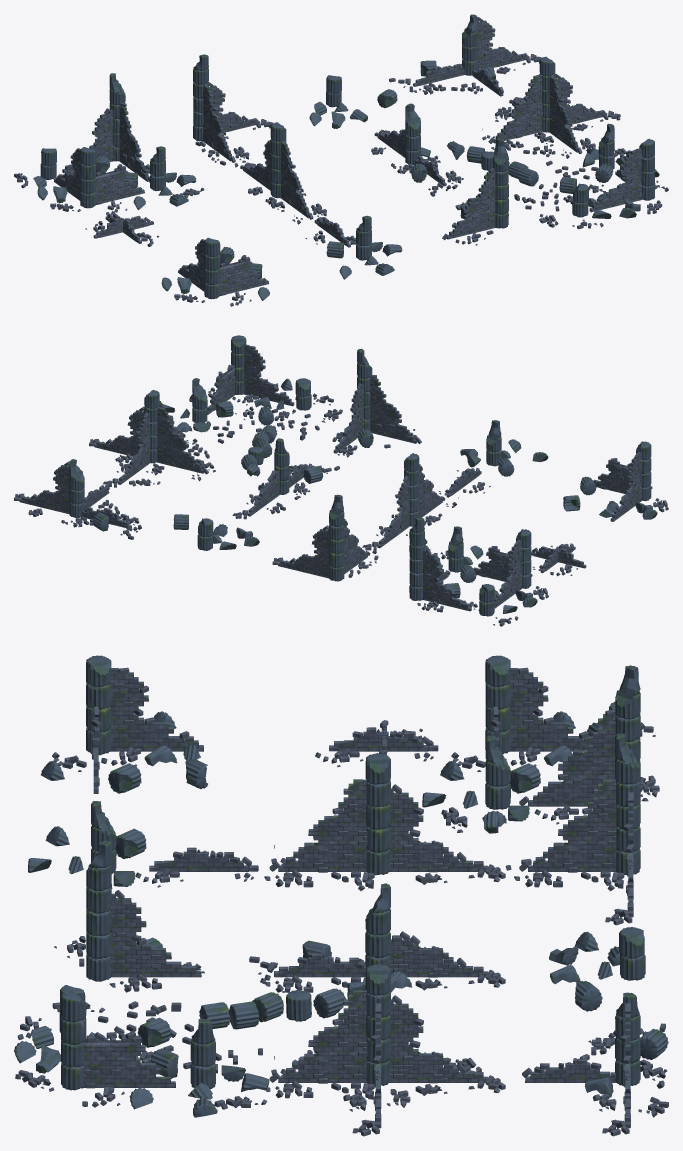
Rendered from AncientRuin2.glb.
3 renders of one model, top to bottom at view 1: azimuth 30°, elevation 25°; view 2: azimuth 150°, elevation 25°; view 3: azimuth 270°, elevation 25°, orthographic. The views are drawn at different scales.
Visible parts, largest first — view 1: Pilar7, Bricks1, Walls10, Wall2, Walls1, Walls12, Wall7, Wall8, Walls6, Walls3, Wall5, Walls11; view 2: Pilar7, Bricks1, Wall2, Walls10, Walls6, Walls3, Wall7, Walls1, Walls12, Wall8, Wall5, Walls11; view 3: Pilar7, Bricks1, Wall2, Walls10, Wall8, Wall7, Walls12, Walls6, Walls3, Wall5, Walls1, Wall9 (+1 smaller).
Part boxes in pixels (<box>): Pilar7: <box>33,14,659,300</box>; Bricks1: <box>14,17,668,306</box>; Walls10: <box>54,106,148,204</box>; Wall2: <box>493,74,602,152</box>; Walls1: <box>419,20,524,96</box>; Walls12: <box>178,240,268,295</box>; Wall7: <box>202,84,254,161</box>; Wall8: <box>246,140,309,218</box>; Walls6: <box>446,171,495,239</box>; Walls3: <box>589,148,642,212</box>; Wall5: <box>380,130,441,183</box>; Walls11: <box>100,216,148,241</box>; Pilar7: <box>69,335,657,616</box>; Bricks1: <box>14,346,668,626</box>; Wall2: <box>99,401,204,482</box>; Walls10: <box>422,538,521,611</box>; Walls6: <box>333,377,417,453</box>; Walls3: <box>207,344,294,414</box>; Wall7: <box>283,519,367,578</box>; Walls1: <box>24,464,125,527</box>; Walls12: <box>593,452,641,521</box>; Wall8: <box>381,464,442,545</box>; Wall5: <box>252,466,309,513</box>; Walls11: <box>533,546,580,570</box>; Pilar7: <box>14,655,668,1117</box>; Bricks1: <box>15,667,668,1136</box>; Wall2: <box>278,990,478,1113</box>; Walls10: <box>493,668,616,806</box>; Wall8: <box>278,779,478,871</box>; Wall7: <box>528,779,633,902</box>; Walls12: <box>93,668,203,793</box>; Walls6: <box>110,893,201,977</box>; Walls3: <box>82,1040,175,1087</box>; Wall5: <box>283,939,478,977</box>; Walls1: <box>525,1013,630,1113</box>; Wall9: <box>159,851,248,871</box>.
Size of the model in its own units: 19.44 by 3.08 by 13.12.
Materials: 2 (2 with a texture image).
